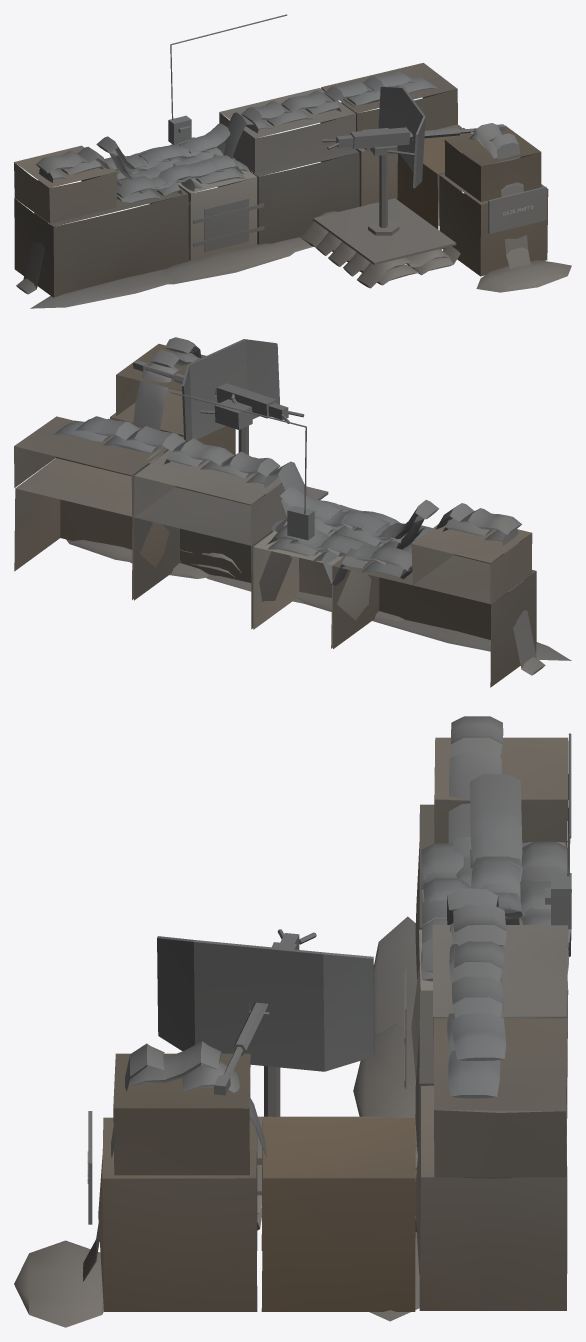
The model's file is WL_GateBastionN_LOD1.glb.
3 renders of one model, top to bottom at view 1: azimuth 30°, elevation 25°; view 2: azimuth 150°, elevation 25°; view 3: azimuth 270°, elevation 25°, orthographic. The views are drawn at different scales.
Parts seen in each view (by area): view 1: WL_GateBastionN_Masonry_LOD1, WL_GateBastionN_Canvas_LOD1, WL_GateBastionN_Metal_LOD1, WL_GateBastionN_Sand_LOD1; view 2: WL_GateBastionN_Masonry_LOD1, WL_GateBastionN_Canvas_LOD1, WL_GateBastionN_Metal_LOD1, WL_GateBastionN_Sand_LOD1; view 3: WL_GateBastionN_Masonry_LOD1, WL_GateBastionN_Canvas_LOD1, WL_GateBastionN_Metal_LOD1, WL_GateBastionN_Sand_LOD1.
Part boxes in pixels (x1,y1,x2,y2): WL_GateBastionN_Masonry_LOD1: (14,63,548,297); WL_GateBastionN_Canvas_LOD1: (16,70,530,294); WL_GateBastionN_Metal_LOD1: (168,14,546,264); WL_GateBastionN_Sand_LOD1: (30,201,571,308); WL_GateBastionN_Masonry_LOD1: (14,344,536,687); WL_GateBastionN_Canvas_LOD1: (54,337,545,675); WL_GateBastionN_Metal_LOD1: (133,339,328,540); WL_GateBastionN_Sand_LOD1: (66,539,571,660); WL_GateBastionN_Masonry_LOD1: (98,737,568,1311); WL_GateBastionN_Canvas_LOD1: (83,716,571,1281); WL_GateBastionN_Metal_LOD1: (88,733,571,1224); WL_GateBastionN_Sand_LOD1: (14,916,419,1327).
Bounding box in the file's own units: 6.6 × 2.65 × 3.78.
